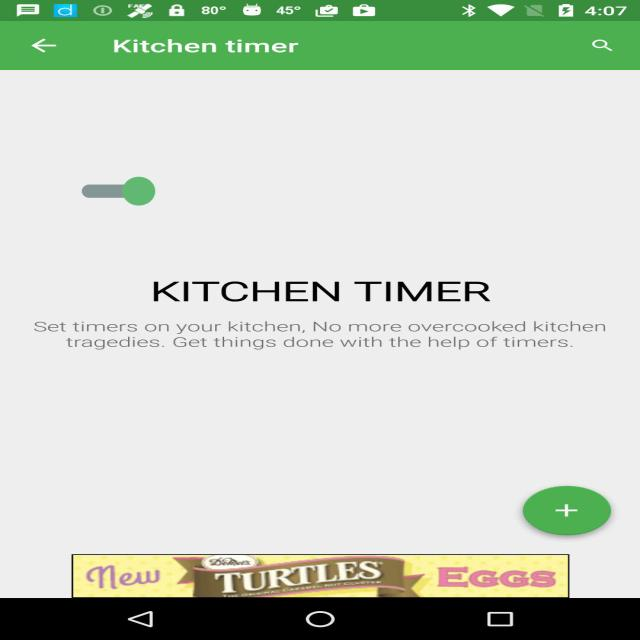social proof: (82, 159, 155, 223)
